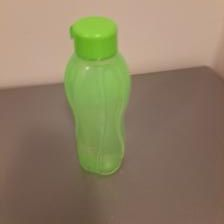bottle: (62, 14, 133, 177)
